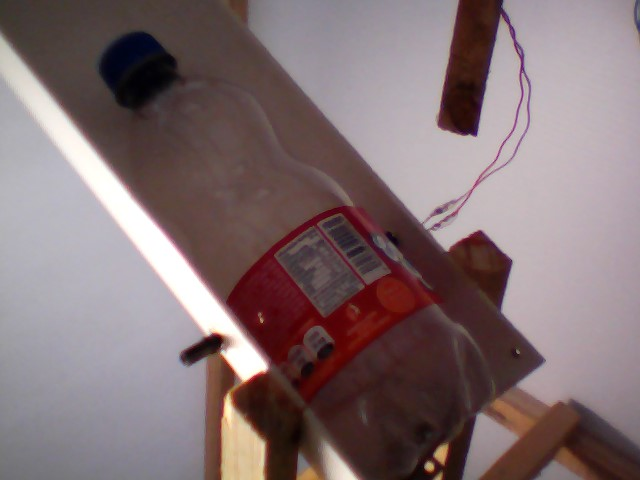plastico: (99, 23, 501, 479)
